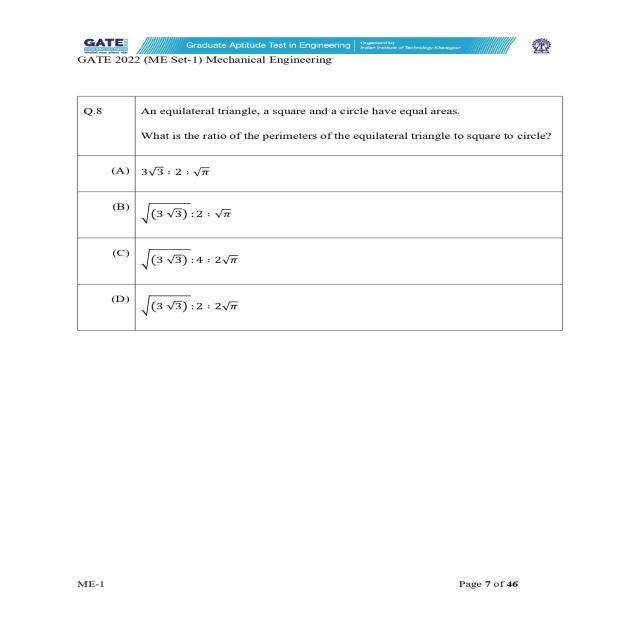Answer_Block: (82, 158, 554, 332)
Question_Answer_Block: (80, 96, 556, 335)
Question_Block: (81, 98, 555, 156)
Question_Paper_Area: (80, 96, 558, 335)
